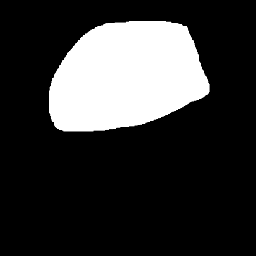mass: (54, 28, 196, 122)
